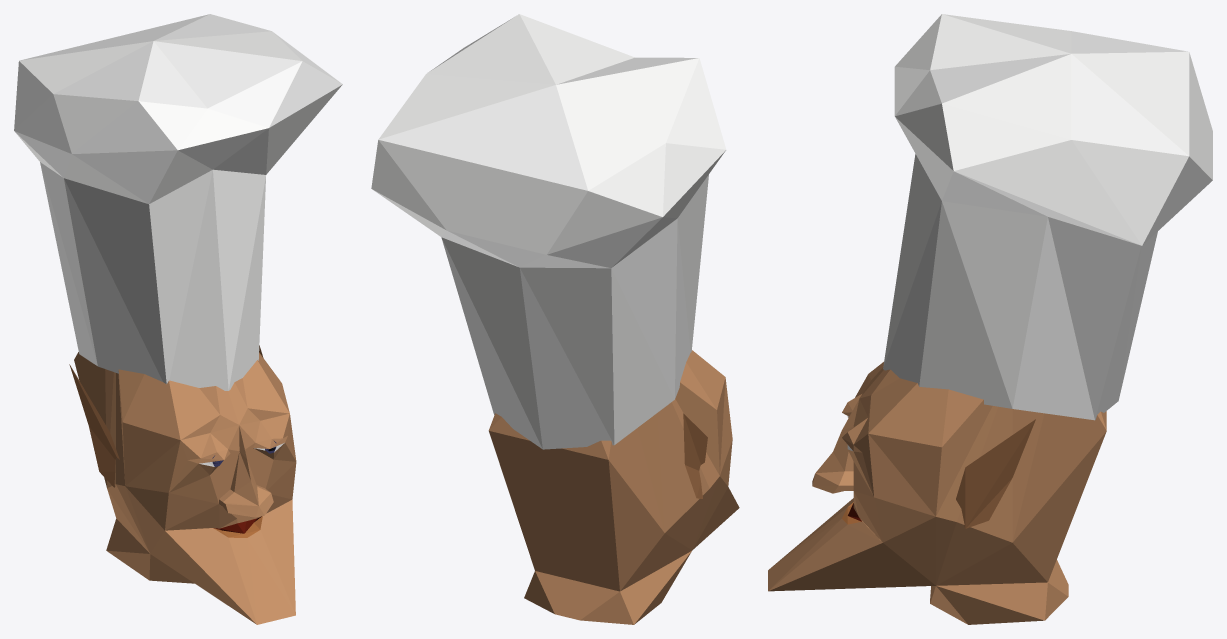
Rendered from model_15_npc_head.obj.
3 renders of one model, left to right at view 1: azimuth 30°, elevation 25°; view 2: azimuth 150°, elevation 25°; view 3: azimuth 270°, elevation 25°, orthographic. The views are drawn at different scales.
Parts seen in each view (by area): view 1: 15; view 2: 15; view 3: 15.
Boxes of the visible parts, x1,y1,x2,y2 form: 15: (14, 14, 342, 624); 15: (371, 14, 739, 624); 15: (768, 14, 1212, 624).
Bounding box in the file's own units: 112 × 207 × 151.
